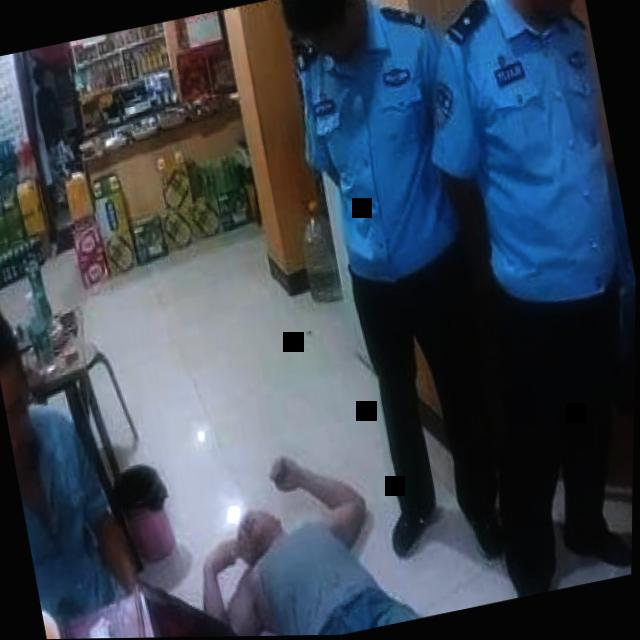Fall-Detected: (167, 361, 605, 638)
